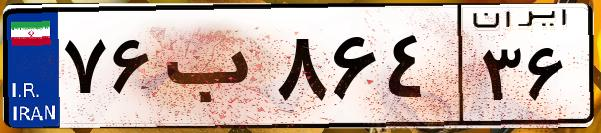3: (475, 38, 525, 113)
4: (385, 28, 445, 110)
6: (330, 28, 385, 110), (525, 38, 570, 115), (110, 28, 158, 98)
7: (57, 26, 110, 100)
8: (270, 28, 330, 110)
ب: (158, 20, 270, 120)
